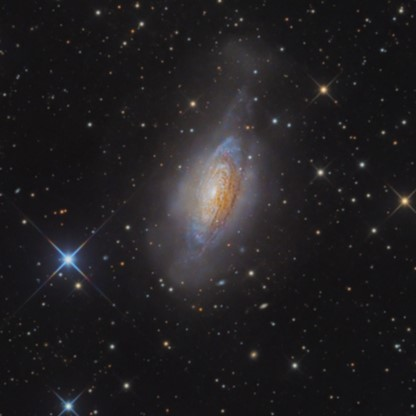NGC 3521: (115, 81, 331, 283)
